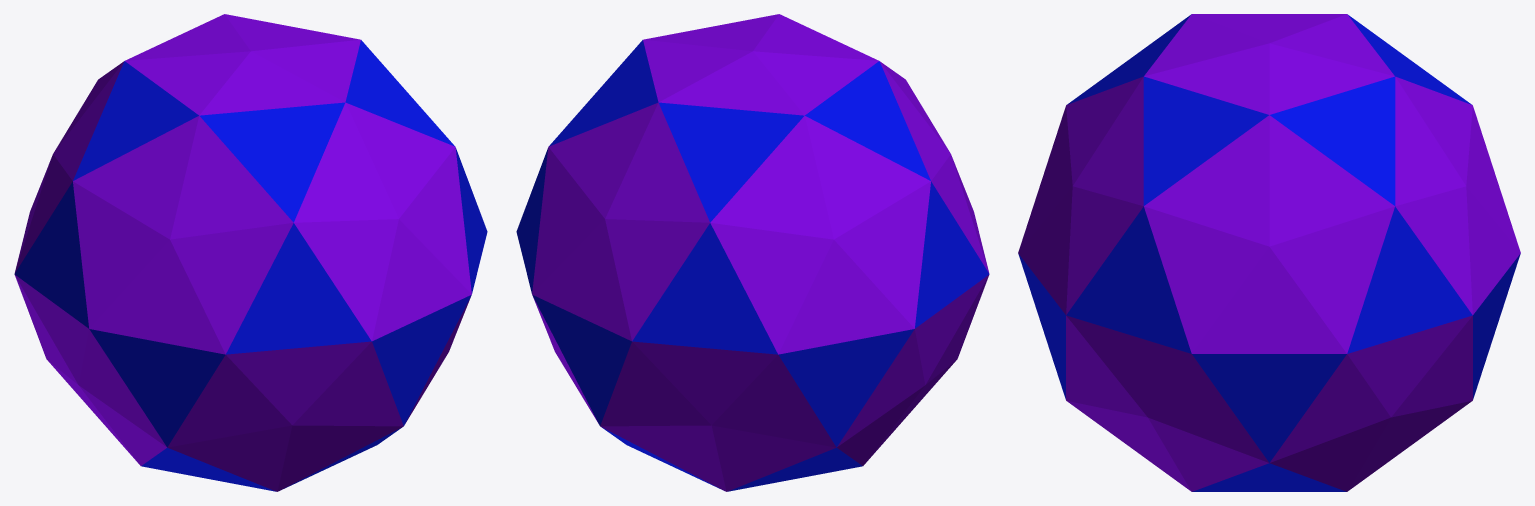
3 renders of one model, left to right at view 1: azimuth 30°, elevation 25°; view 2: azimuth 150°, elevation 25°; view 3: azimuth 270°, elevation 25°, orthographic. The views are drawn at different scales.
Parts seen in each view (by area): view 1: Icosphere_2d; view 2: Icosphere_2d; view 3: Icosphere_2d.
Part boxes in pixels (<box>): Icosphere_2d: <box>14,14,487,491</box>; Icosphere_2d: <box>516,14,989,491</box>; Icosphere_2d: <box>1018,14,1520,491</box>.
Size of the model in its own units: 1.9 by 1.84 by 2.
